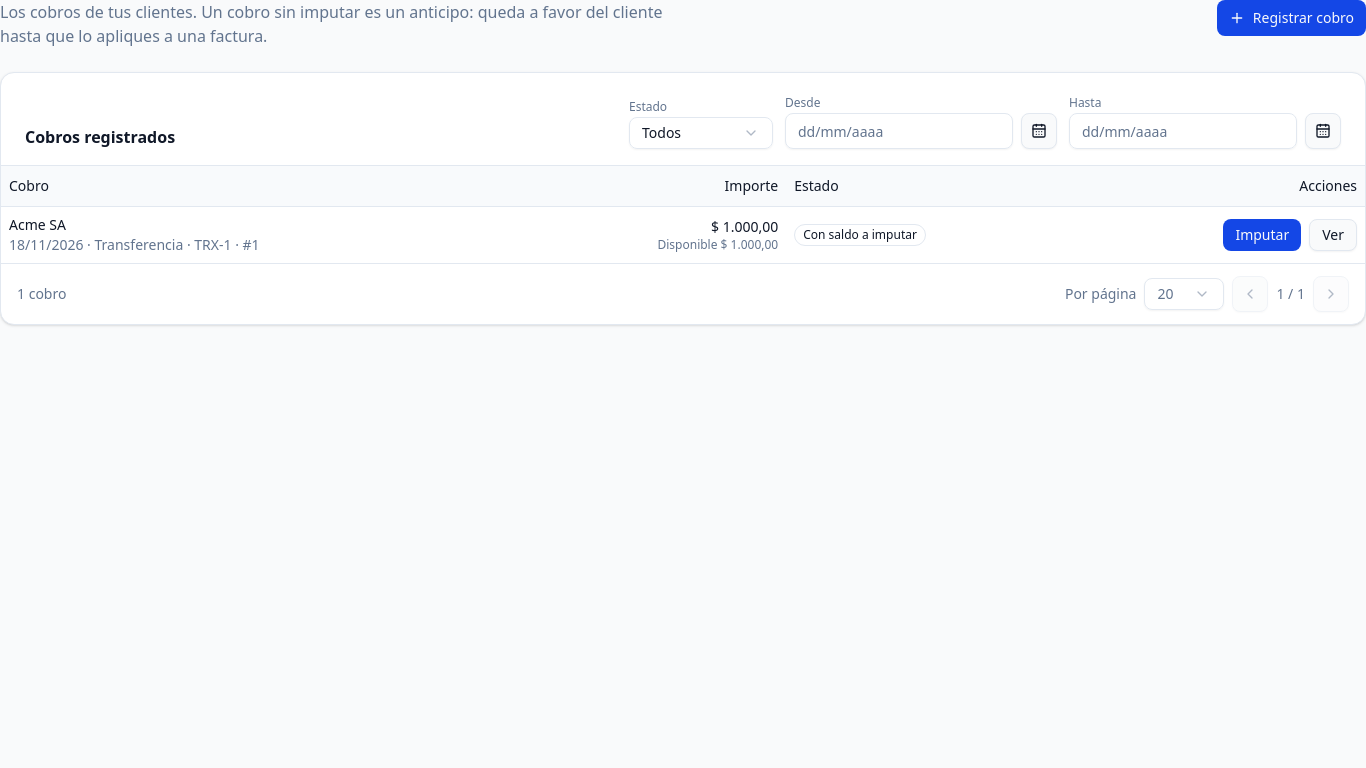
Detalle de un cobro › muestra los datos del cobro, los importes y quién lo registró
What coordinates should you click on to do the following:
click the button with aria-label "Ver cobro 1"
I would click on:
 (1333, 234)
Its box is x1=1309 y1=218 x2=1357 y2=250.
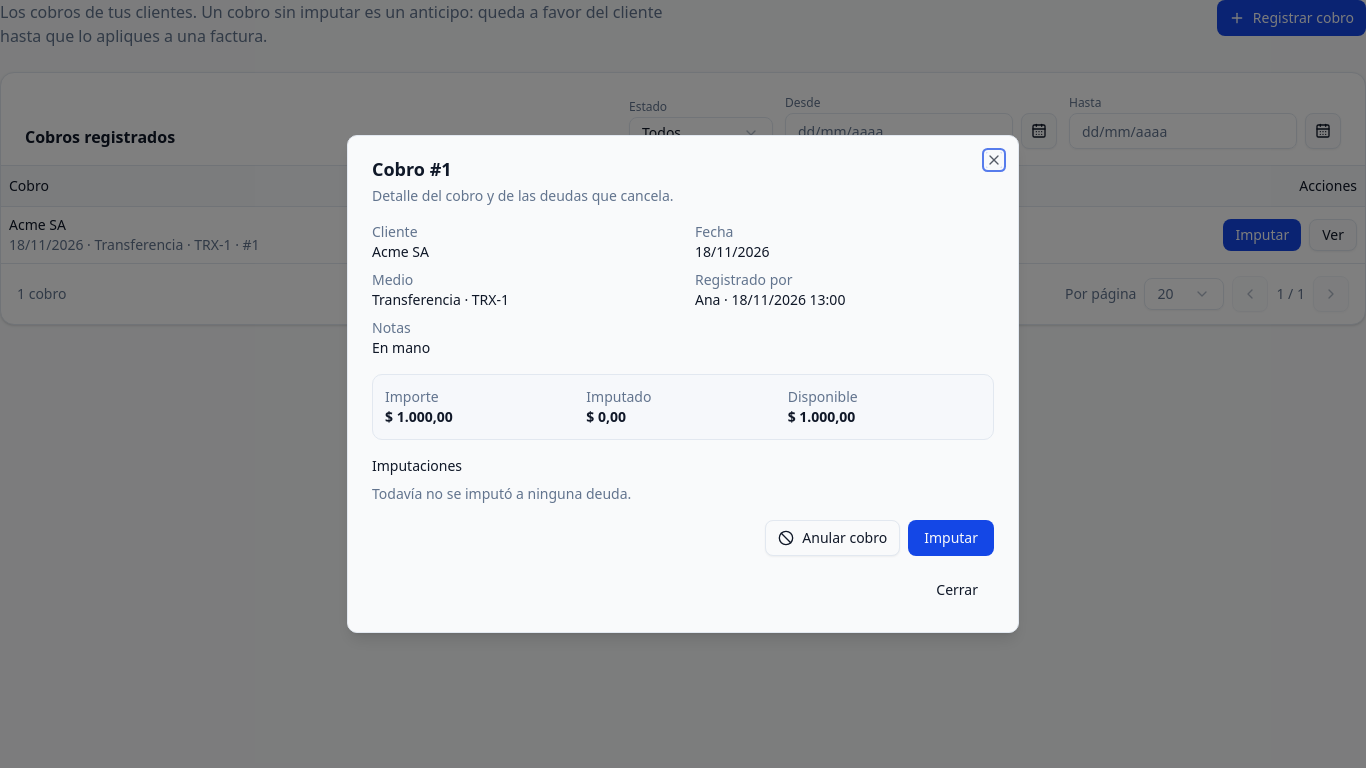
Expected: the text "Acme SA" is shown, x1=372 y1=242 x2=429 y2=261
Expected: the text "18/11/2026" is shown, x1=695 y1=242 x2=770 y2=261
Expected: the text "Transferencia · TRX-1" is shown, x1=372 y1=290 x2=509 y2=309
